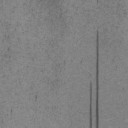surface scratch: (94, 30, 100, 128), (89, 80, 93, 128)
